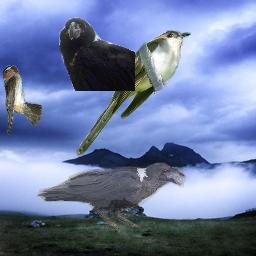Crow: (36, 161, 187, 231), (58, 17, 135, 91)
Cuckoo: (75, 29, 191, 159)
Swallow: (2, 65, 42, 136)
